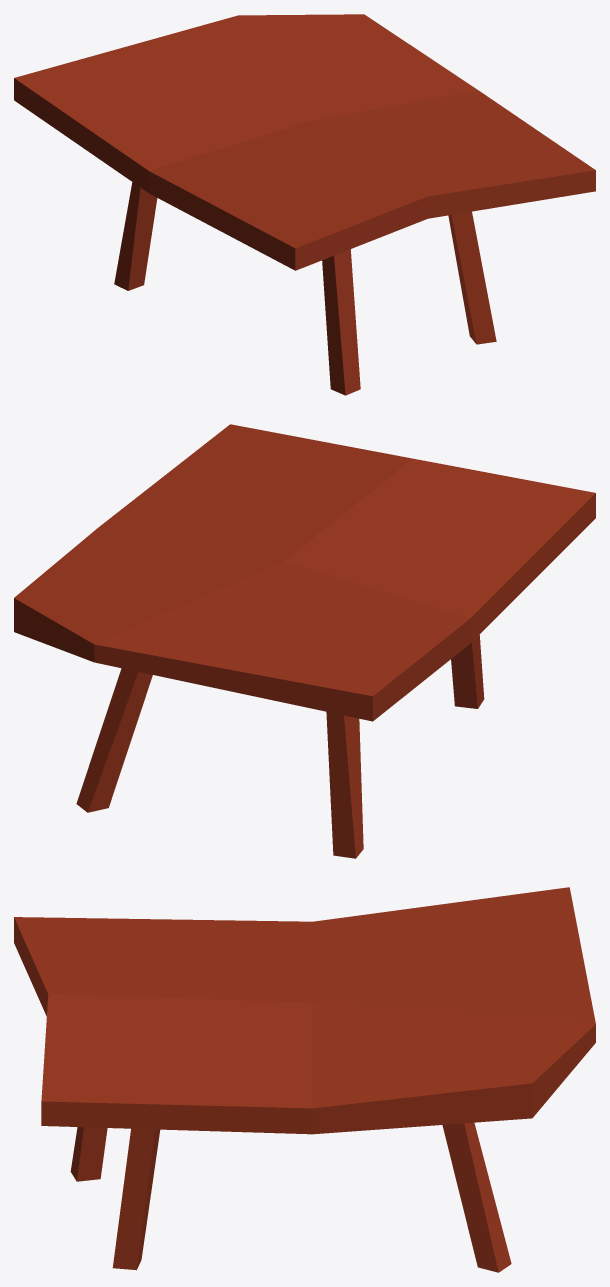
The model's file is Table_clean.fbx.
3 views of the same model, one above another, from view 1: azimuth 30°, elevation 25°; view 2: azimuth 150°, elevation 25°; view 3: azimuth 270°, elevation 25° (orthographic). The views are drawn at different scales.
Parts seen in each view (by area): view 1: Table.clean; view 2: Table.clean; view 3: Table.clean.
Boxes of the visible parts, box(x1,y1,x2,y2) form: Table.clean: box(14, 14, 595, 395); Table.clean: box(14, 424, 595, 858); Table.clean: box(14, 887, 595, 1272).
Bounding box in the file's own units: 351 × 179 × 430.
